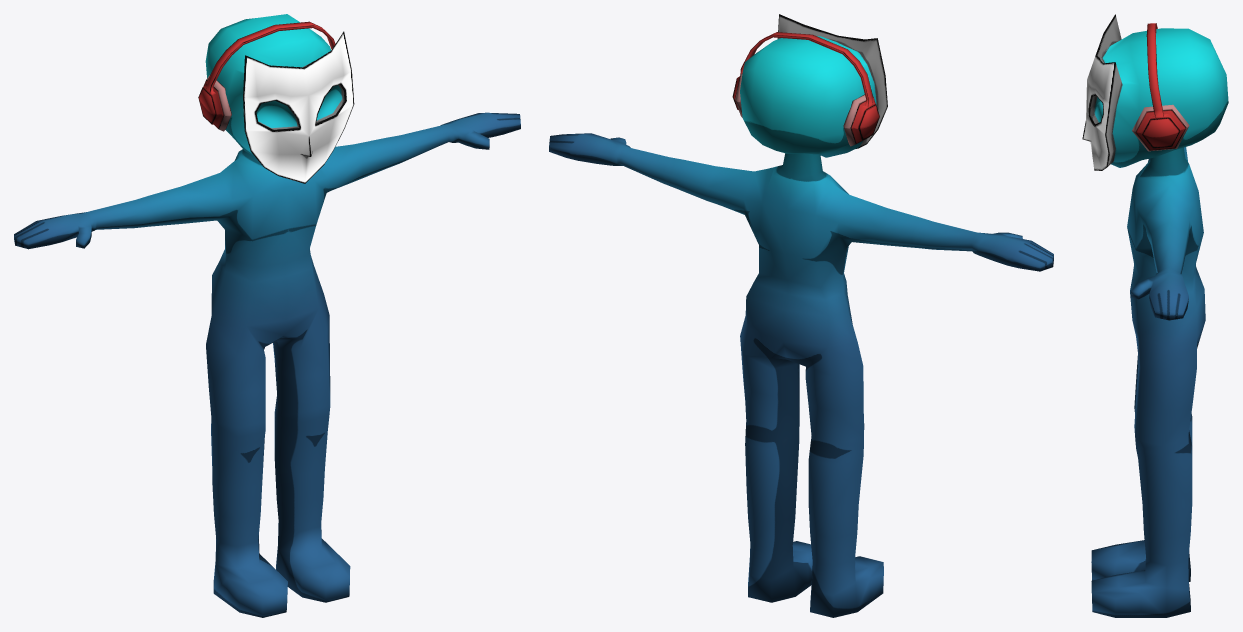
Rendered from Jasper Soul.fbx.
The picture shows the model from 3 angles, left to right: view 1: azimuth 30°, elevation 25°; view 2: azimuth 150°, elevation 25°; view 3: azimuth 270°, elevation 25°; orthographic projection.
Parts seen in each view (by area): view 1: body.002; view 2: body.002; view 3: body.002.
Boxes of the visible parts, box(x1,y1,x2,y2) form: body.002: box(14, 14, 520, 617); body.002: box(549, 14, 1053, 617); body.002: box(1082, 14, 1228, 617).
Bounding box in the file's own units: 203 × 214 × 51.06.
1 material, 1 textured.
